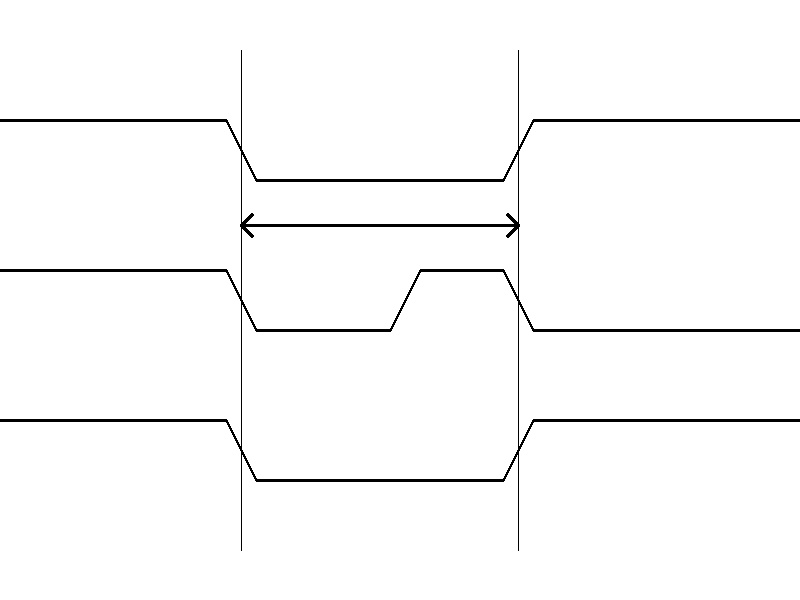double_arrow: (241, 210, 518, 240)
